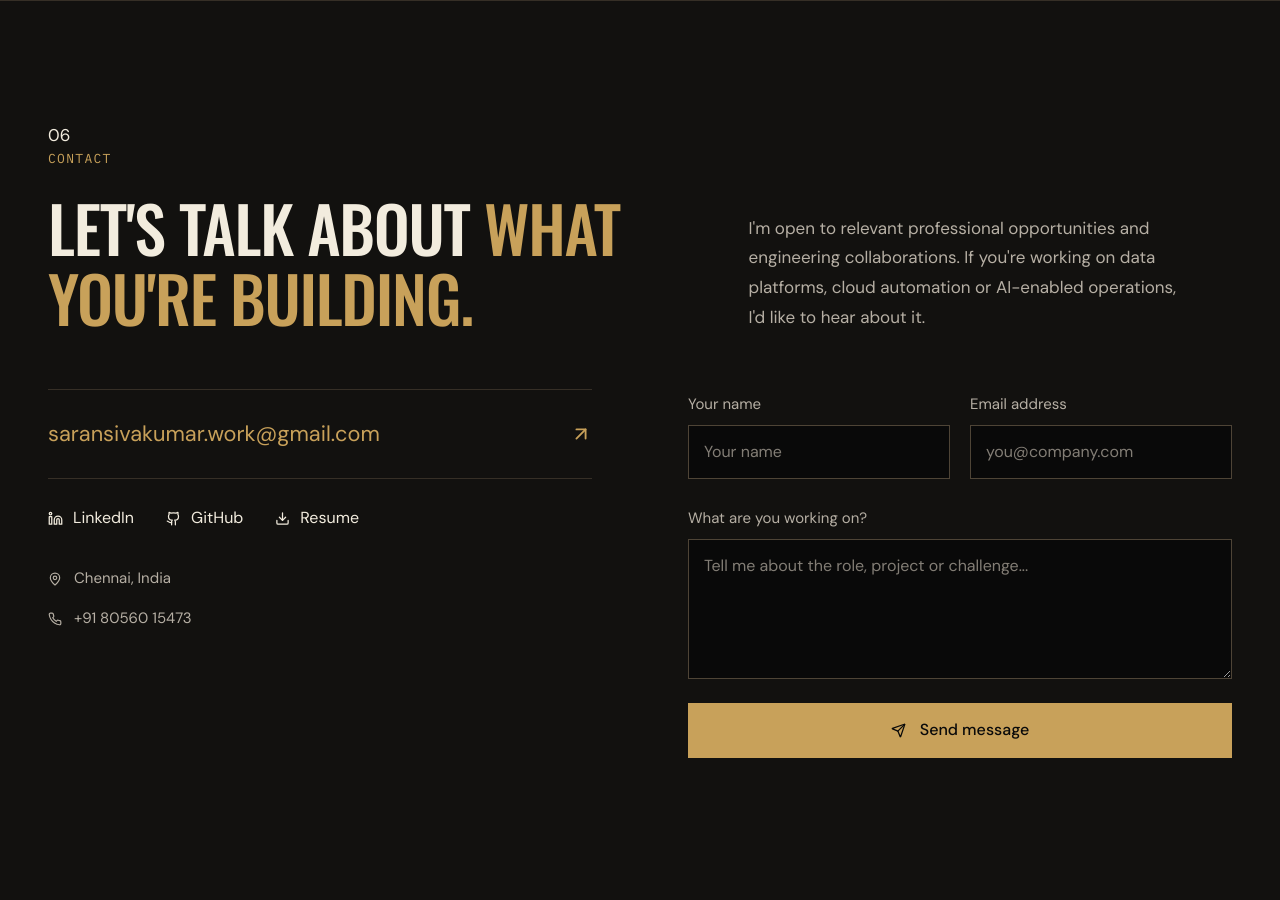
Contact delivery › surfaces delivery failures, keeps the visitor's message and offers the email fallback
In the field labelled "Your name": [819, 452] box 688,425 -> 950,479, type "Test Visitor"
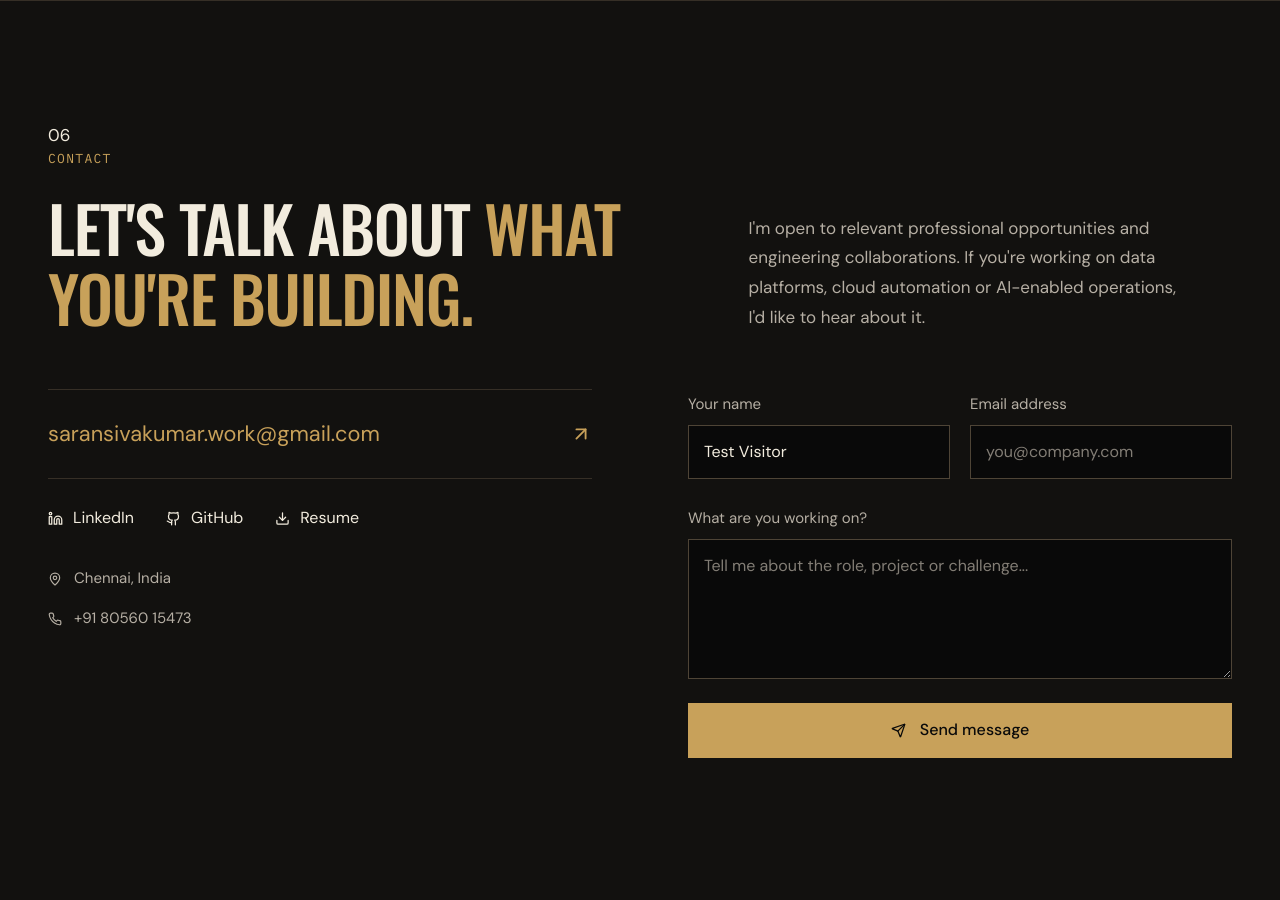
In the field labelled "Email address": [1101, 452] box 970,425 -> 1232,479, type "visitor@example.com"
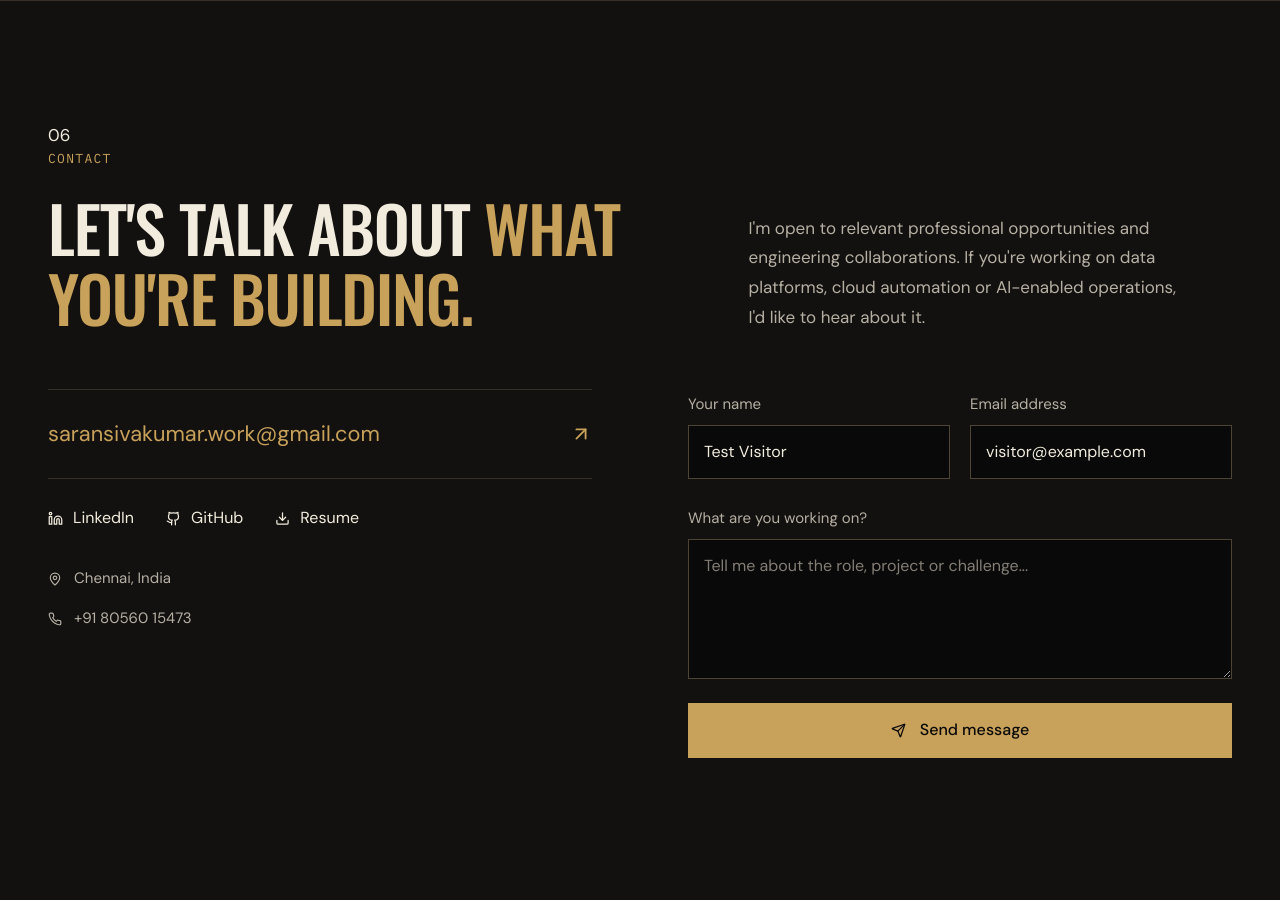
In the text box labelled "What are you working on?": [960, 609] box 688,539 -> 1232,679, type "A data platform engineering opportunity."
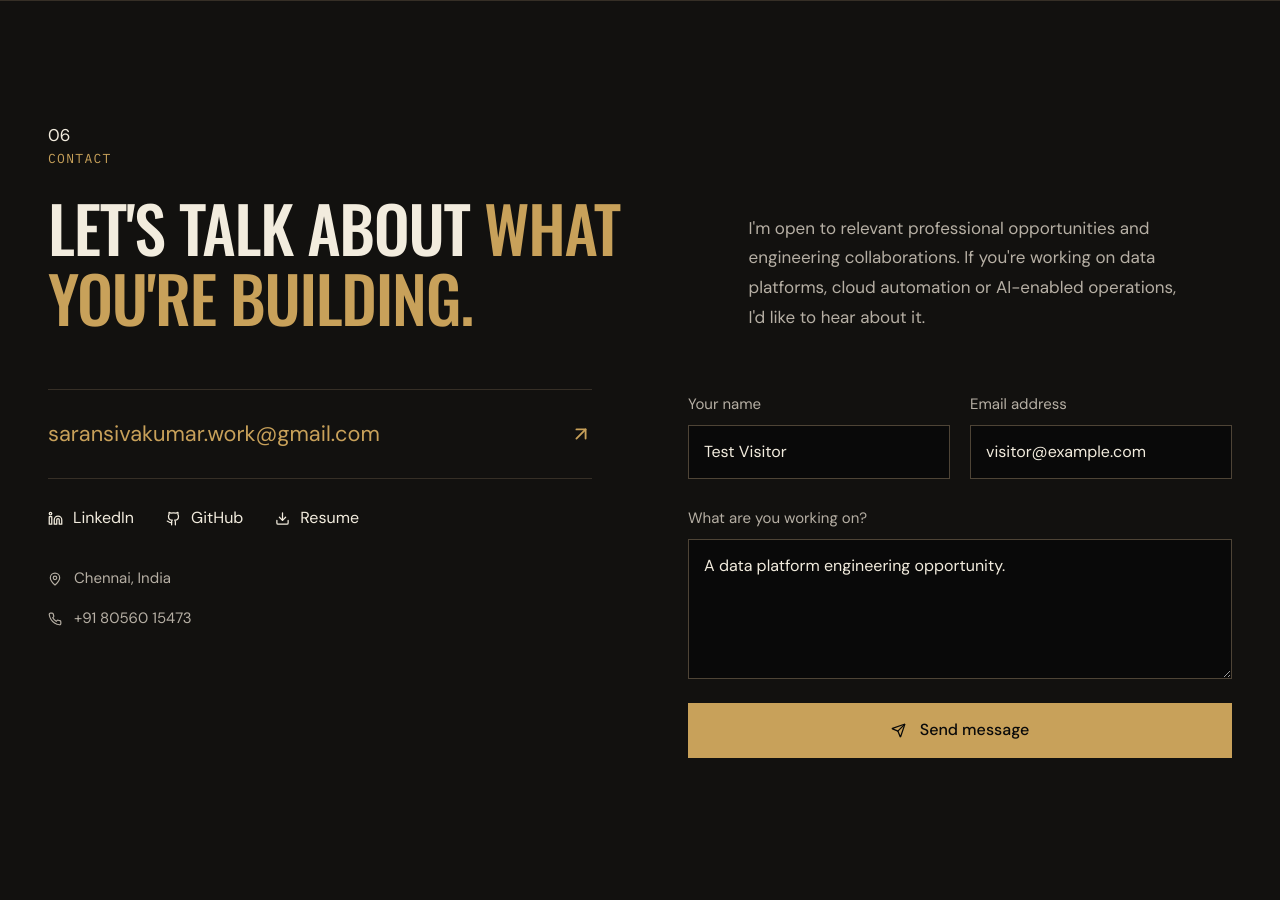
Submit the form named "Contact Saran", box 688,389 -> 1232,782
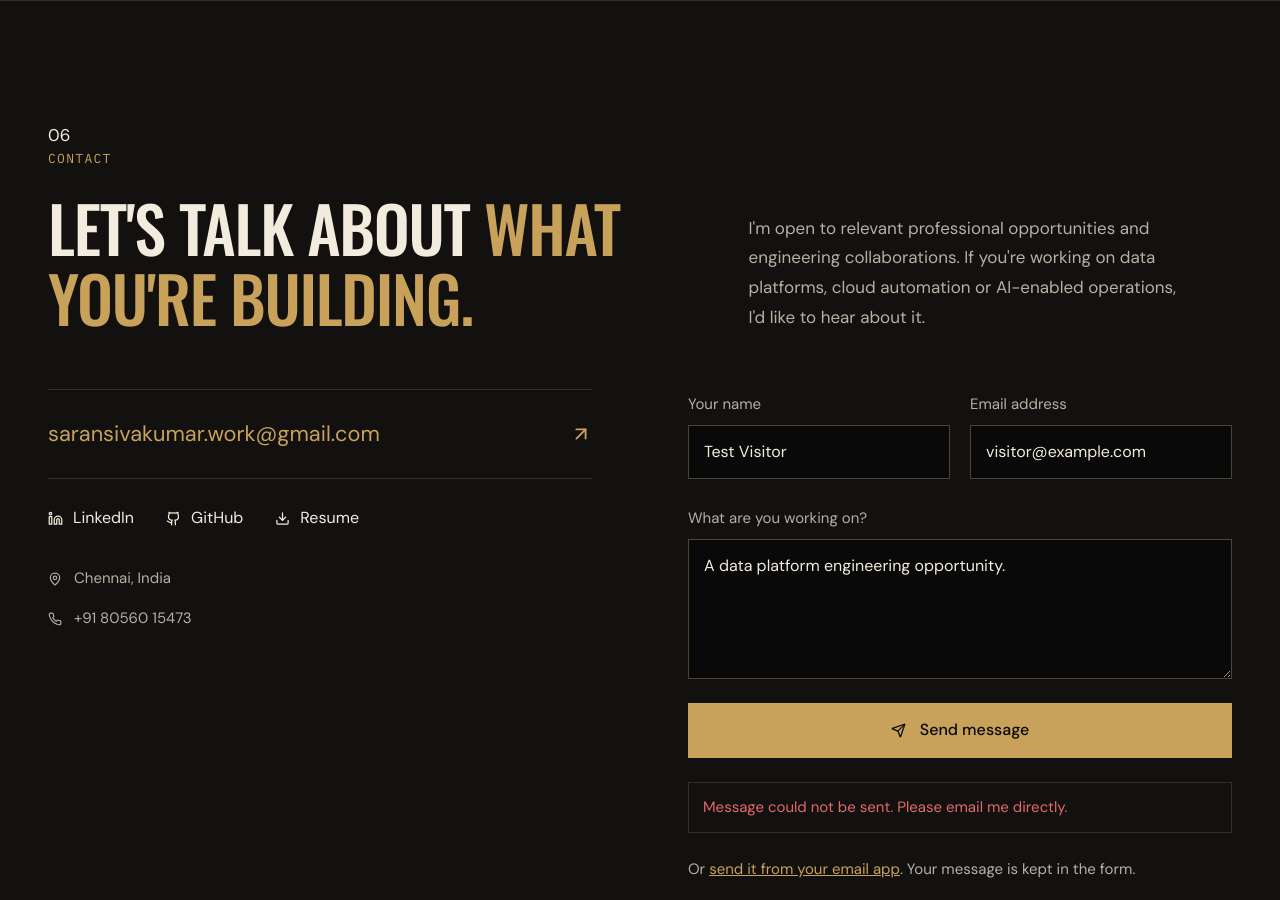
Expected: the button "Send message" is enabled, 688,703 -> 1232,758
Expected: the message reads "Message could not be sent. Please email me directly.", 703,796 -> 1068,816
